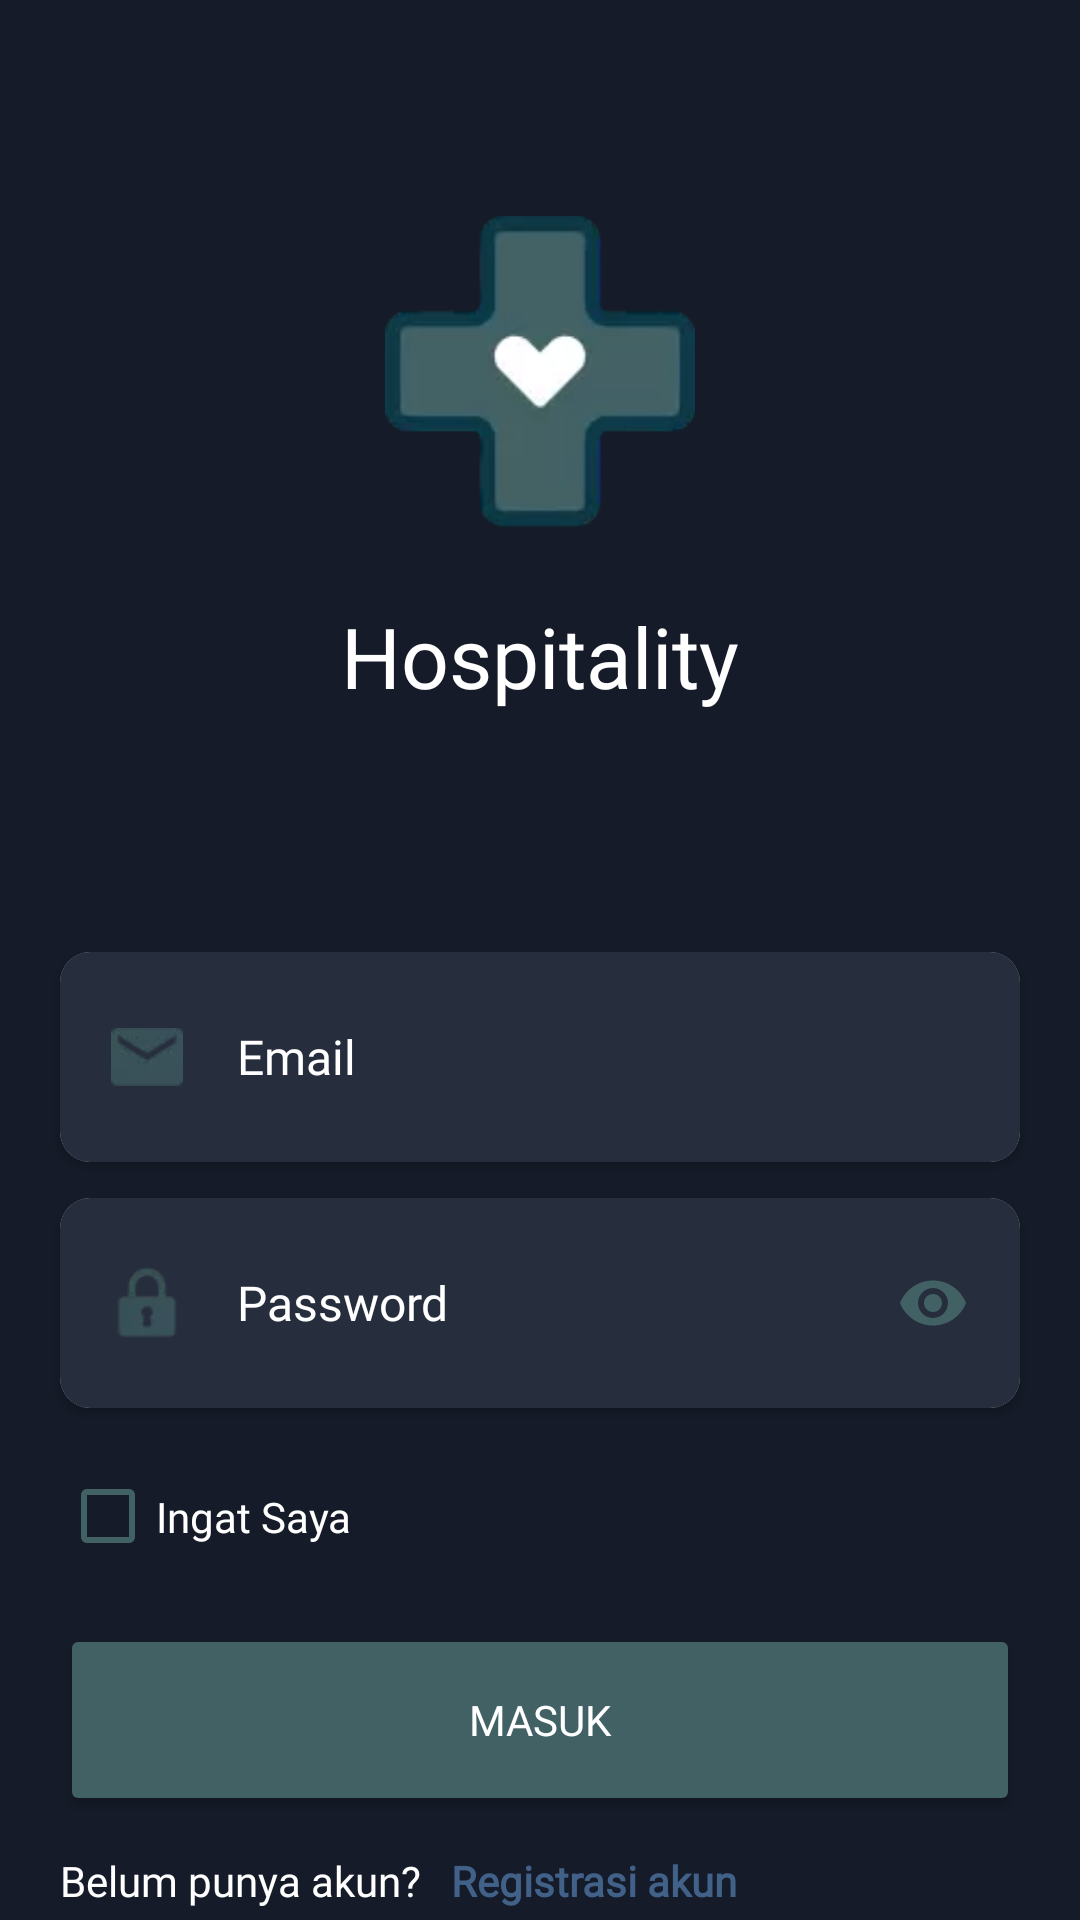

Where icons sit on this 1080×1920 app screen, as (x1, y1, x2, y2):
lock: (120, 1269, 174, 1336)
